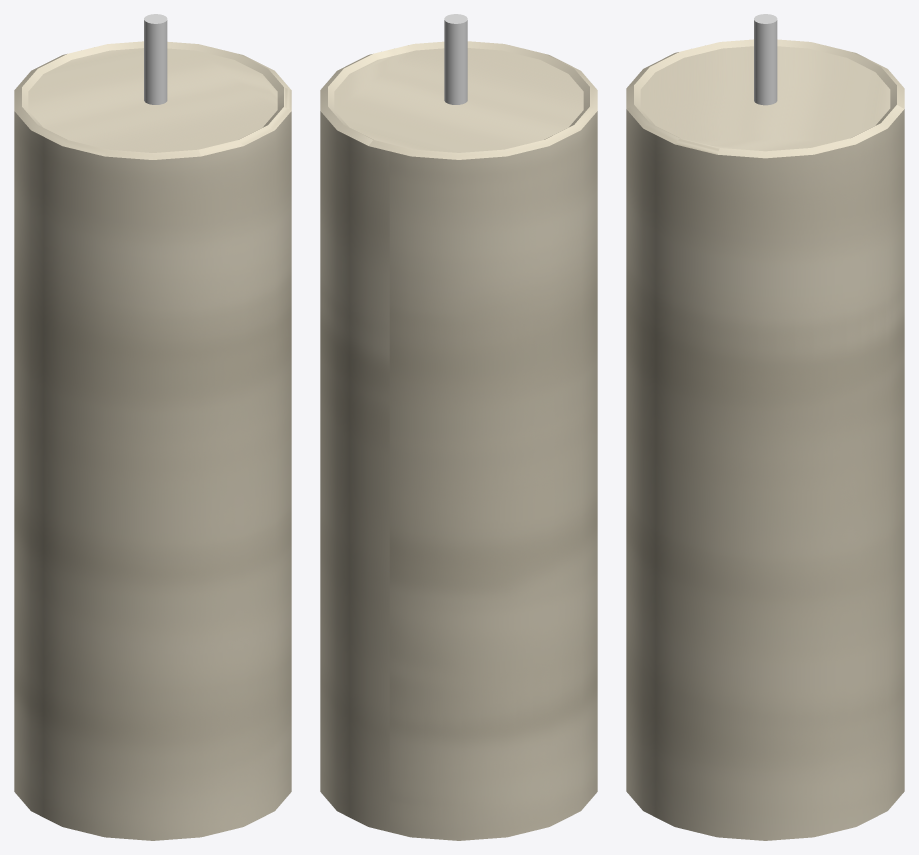
File: Candle#1.fbx
The picture shows the model from 3 angles, left to right: view 1: azimuth 30°, elevation 25°; view 2: azimuth 150°, elevation 25°; view 3: azimuth 270°, elevation 25°; orthographic projection.
Parts seen in each view (by area): view 1: Cylinder001, Cylinder002; view 2: Cylinder001, Cylinder002; view 3: Cylinder001, Cylinder002.
Boxes of the visible parts, bbox=[...] form: Cylinder001: bbox=[14, 41, 291, 840]; Cylinder002: bbox=[144, 14, 167, 104]; Cylinder001: bbox=[320, 41, 597, 840]; Cylinder002: bbox=[444, 14, 467, 104]; Cylinder001: bbox=[626, 39, 904, 840]; Cylinder002: bbox=[754, 14, 777, 105].
Bounding box in the file's own units: 0.7593 × 2.27 × 0.7478.
Materials: 1 (1 with a texture image).
